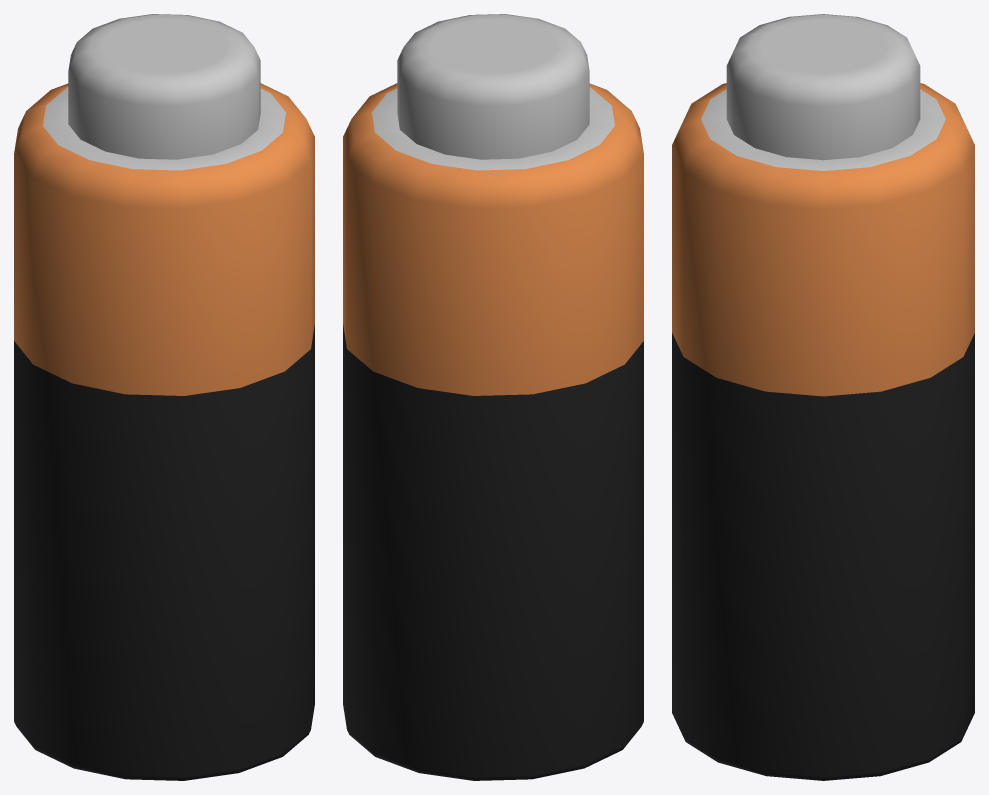
Rendered from Battery.fbx.
The picture shows the model from 3 angles, left to right: view 1: azimuth 30°, elevation 25°; view 2: azimuth 150°, elevation 25°; view 3: azimuth 270°, elevation 25°; orthographic projection.
Visible parts, largest first — view 1: Cylinder.001; view 2: Cylinder.001; view 3: Cylinder.001.
Boxes of the visible parts, x1=… form: Cylinder.001: x1=14, y1=14, x2=314, y2=780; Cylinder.001: x1=343, y1=14, x2=643, y2=780; Cylinder.001: x1=672, y1=14, x2=974, y2=780.
Bounding box in the file's own units: 12.11 × 29.69 × 12.11.
